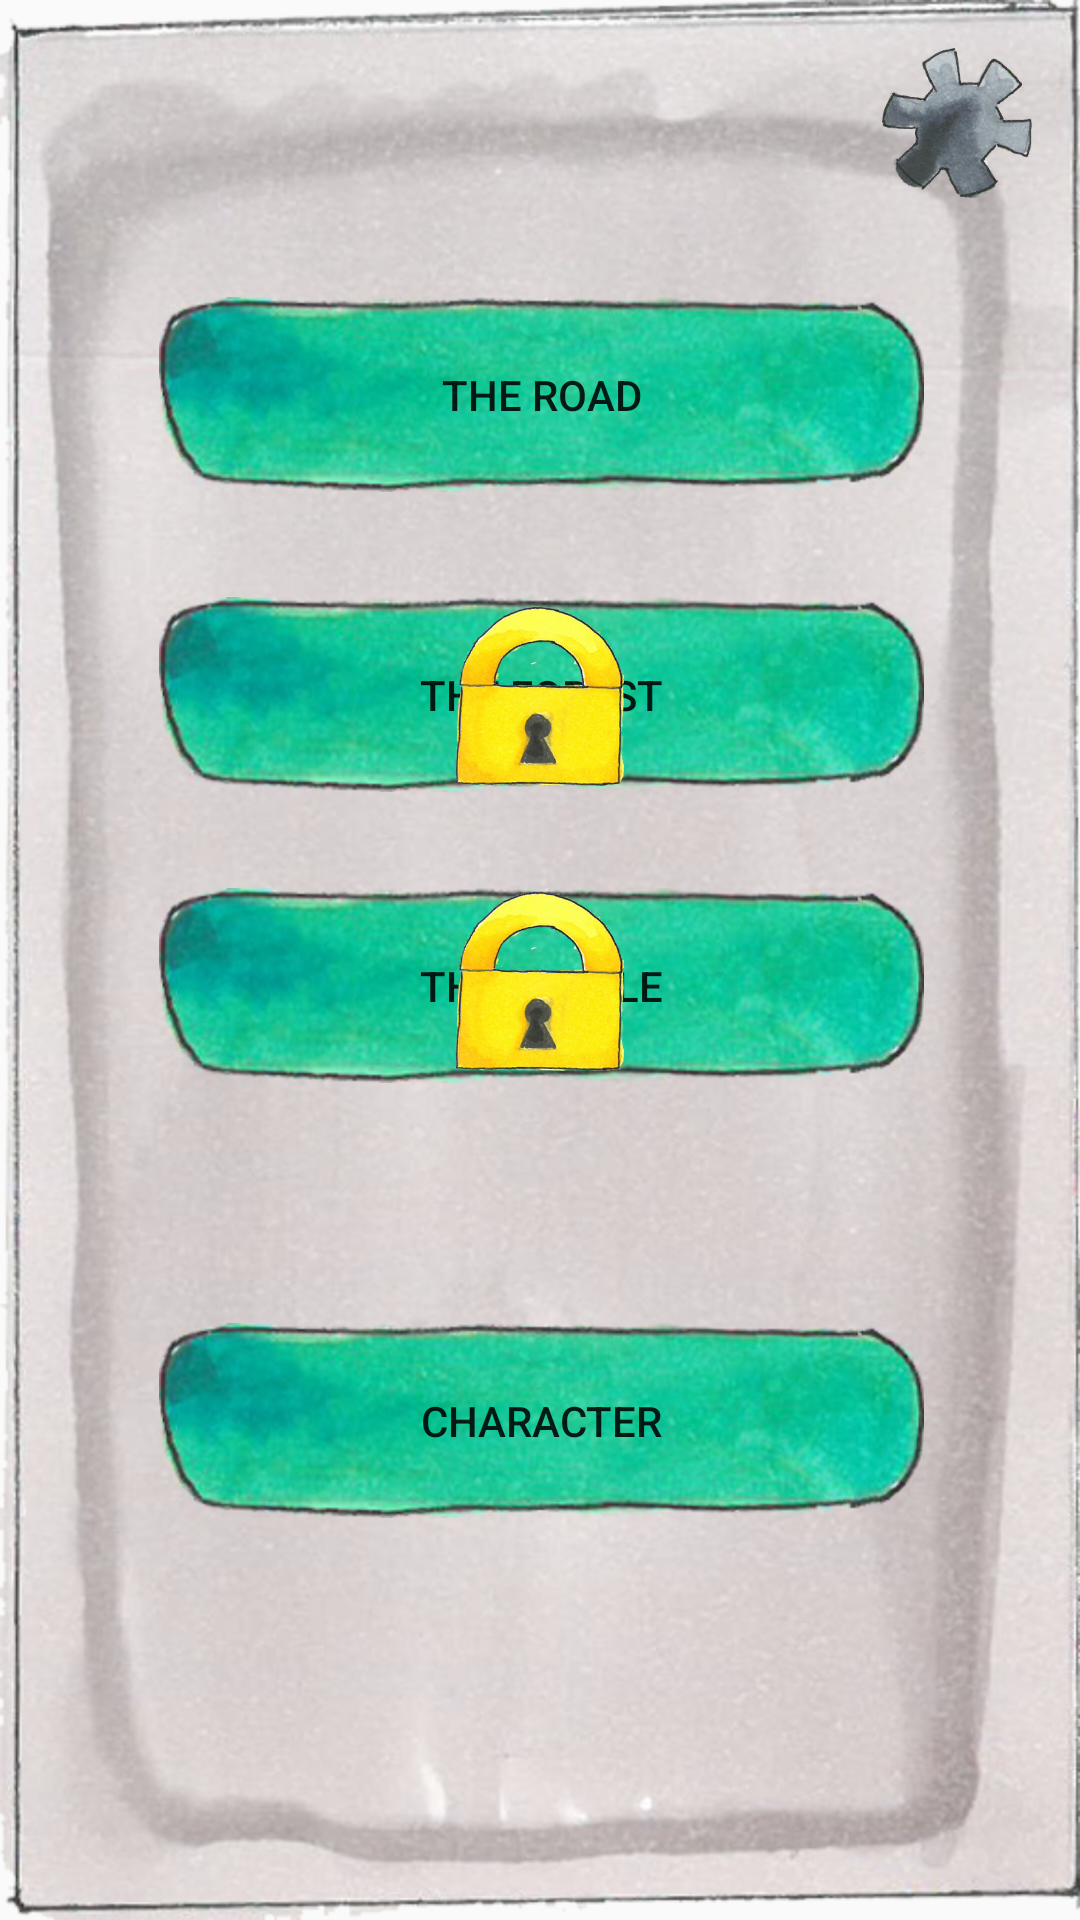

Screen size 1080px×1920px. Icon name, then its center in pixels as [x,y]:
lock: [540,696], [540,981]
settings: [957,123]
